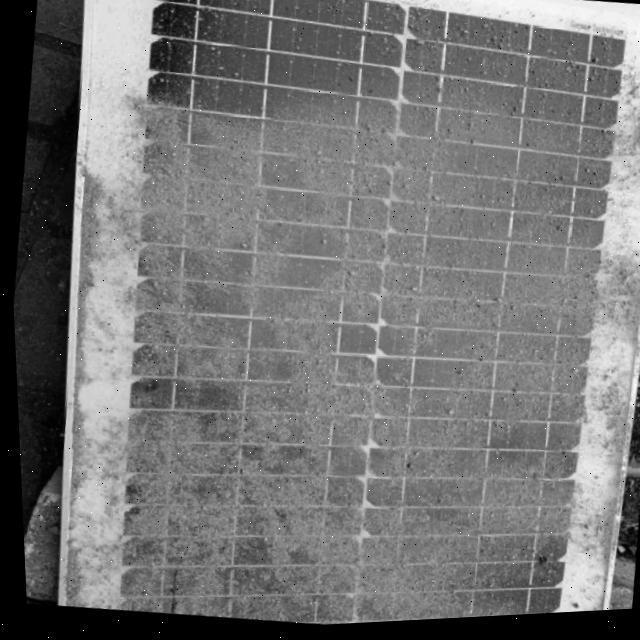Surface Contaminant: (72, 0, 640, 628)
